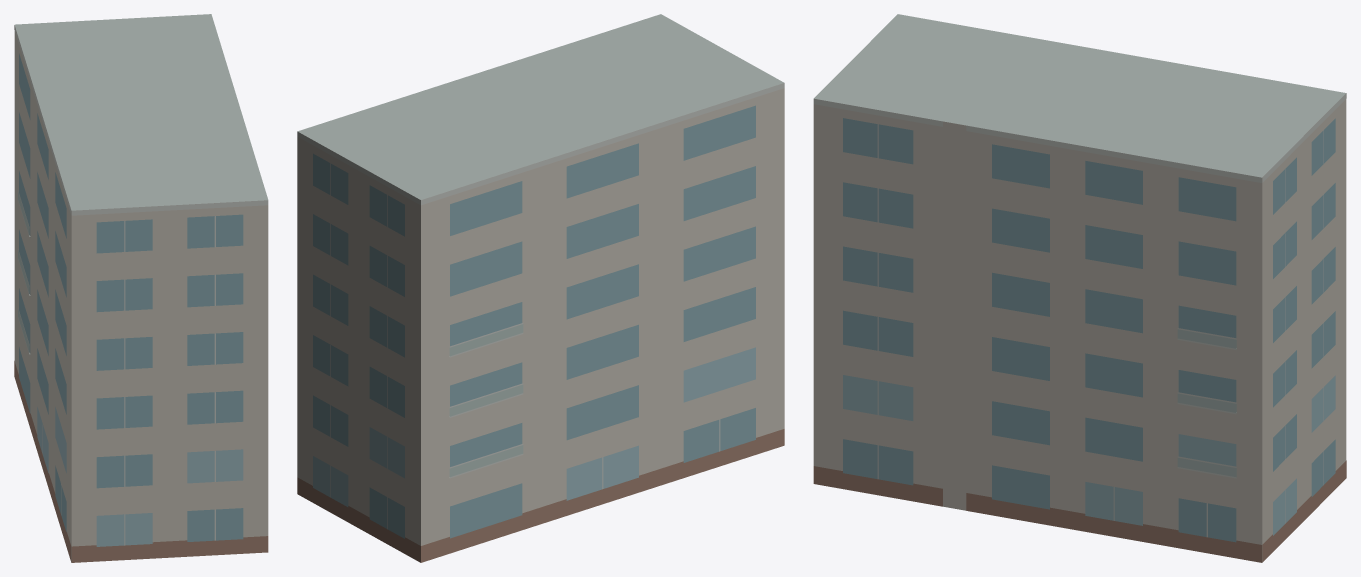
File: survey-upis-32664756.glb
The picture shows the model from 3 angles, left to right: view 1: azimuth 30°, elevation 25°; view 2: azimuth 150°, elevation 25°; view 3: azimuth 270°, elevation 25°; orthographic projection. The views are drawn at different scales.
Parts seen in each view (by area): view 1: survey-upis-32664756.tmp; view 2: survey-upis-32664756.tmp; view 3: survey-upis-32664756.tmp.
Boxes of the visible parts, bbox=[...] form: survey-upis-32664756.tmp: bbox=[14, 14, 268, 562]; survey-upis-32664756.tmp: bbox=[297, 14, 784, 562]; survey-upis-32664756.tmp: bbox=[813, 14, 1346, 562].
Bounding box in the file's own units: 15.5 × 17 × 21.32.
